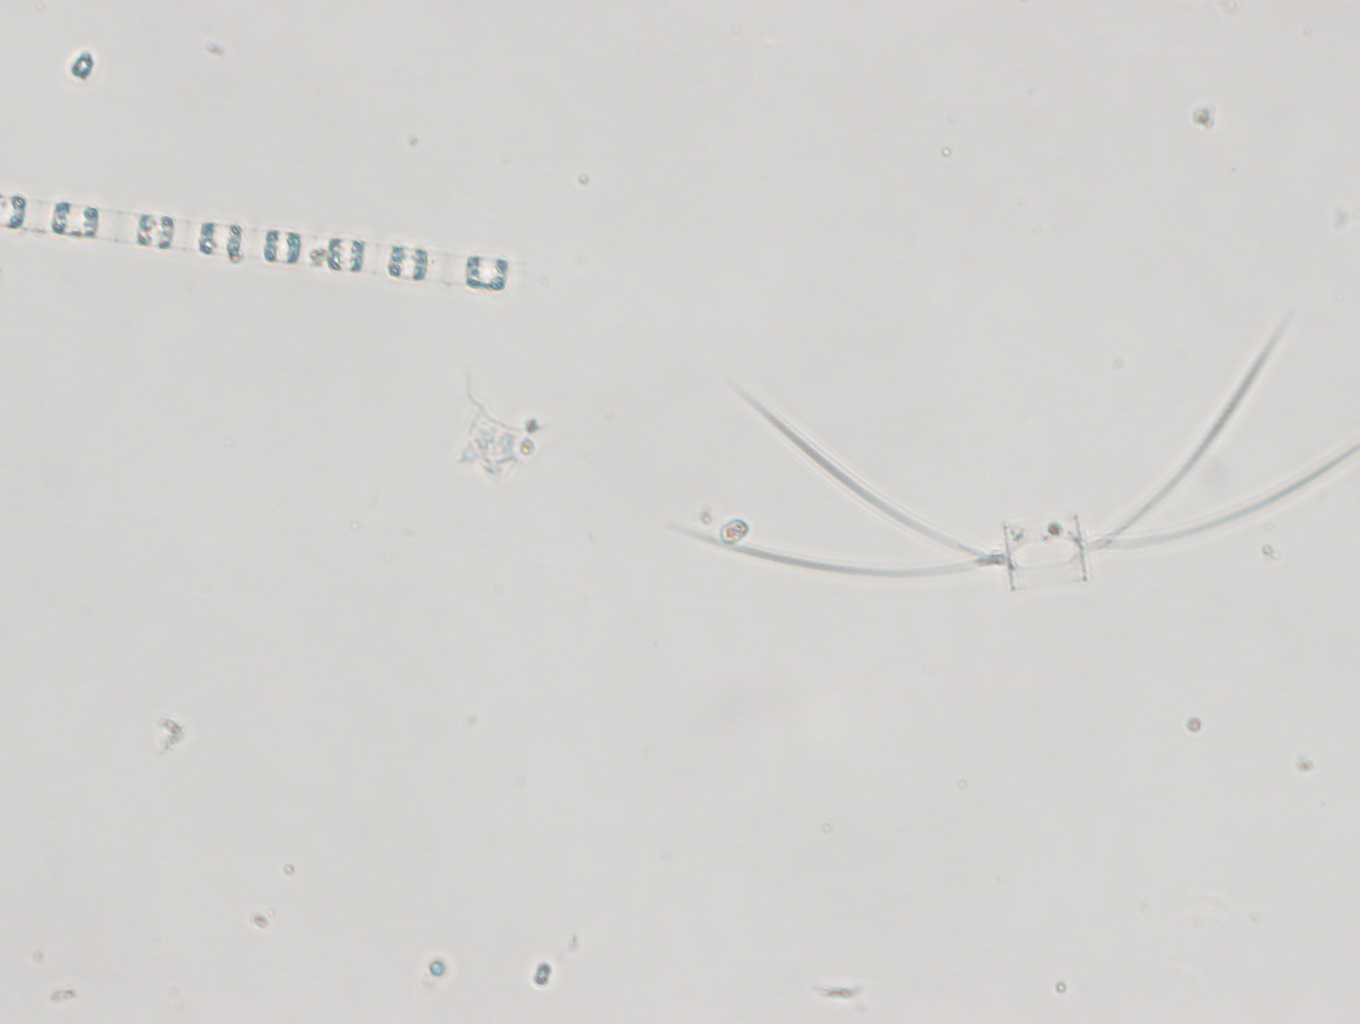chaetoceros: (667, 312, 1360, 593)
skeletonema: (1, 190, 522, 302)
